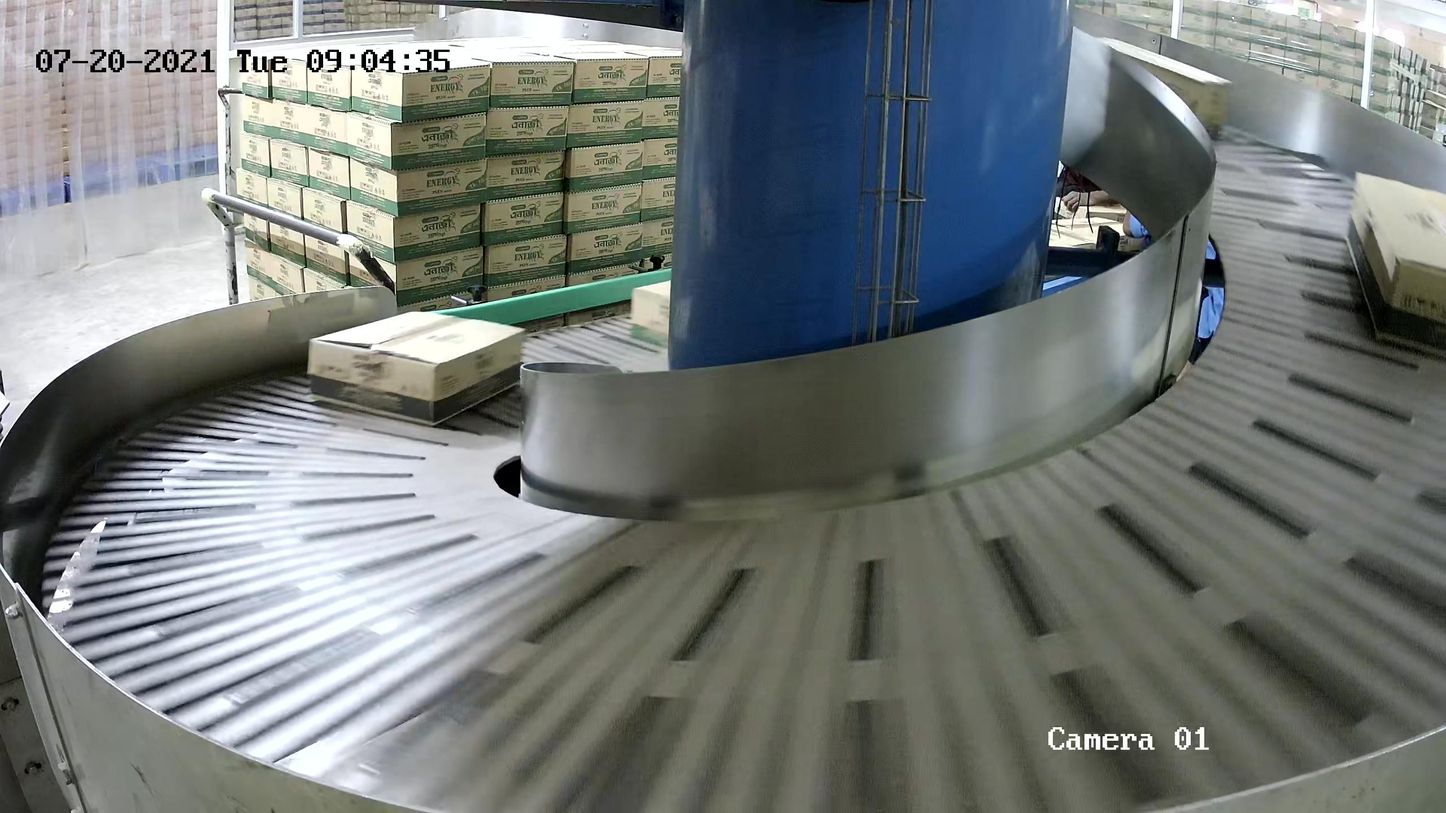Box: (306, 309, 526, 427), (1343, 170, 1446, 360), (1089, 36, 1234, 139), (629, 279, 670, 349)
